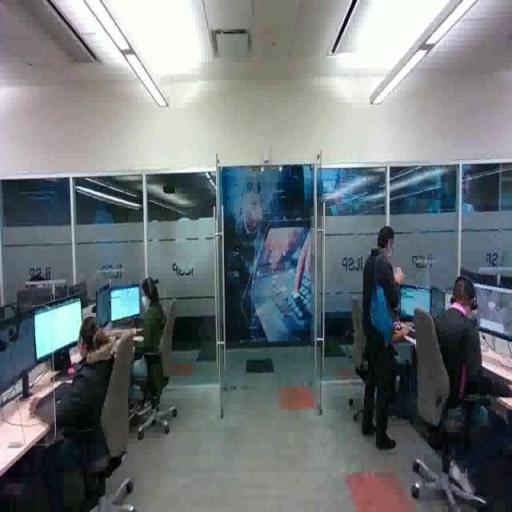person: (429, 278, 512, 496), (31, 312, 121, 501), (364, 225, 404, 452), (115, 276, 169, 408)
